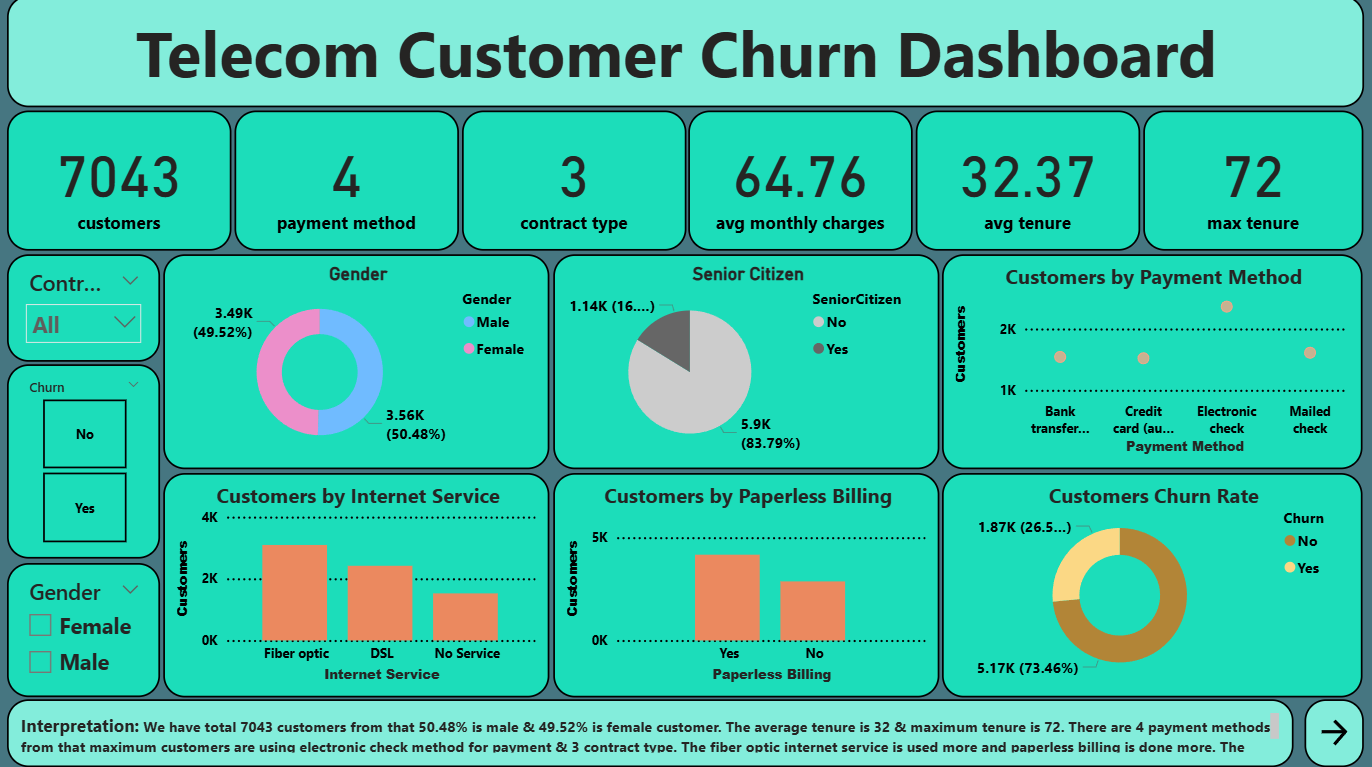

The dashboard page shown, as its layout file describes it:
{"tool":"powerbi","page":{"name":"Overview","canvas":[1280,720],"ordinal":0},"visuals":[{"type":"card","fields":{"Values":["WA_Fn-UseC_-Telco-Customer-Churn.total_customers"]},"box":[9.6,109.8,208.6,130.4],"z":0},{"type":"card","fields":{"Values":["WA_Fn-UseC_-Telco-Customer-Churn.payment_method"]},"box":[220.9,109.8,208.6,130.4],"z":1000},{"type":"card","fields":{"Values":["WA_Fn-UseC_-Telco-Customer-Churn.contract_type"]},"box":[432.2,109.8,208.6,130.4],"z":2000},{"type":"card","fields":{"Values":["WA_Fn-UseC_-Telco-Customer-Churn.avg_monthly_charges"]},"box":[643.6,109.8,208.6,130.4],"z":3000},{"type":"card","fields":{"Values":["WA_Fn-UseC_-Telco-Customer-Churn.avg_tenure"]},"box":[854.9,109.8,208.6,130.4],"z":4000},{"type":"textbox","box":[9.6,2.7,1262.4,104.3],"z":5000},{"type":"slicer","fields":{"Values":["WA_Fn-UseC_-Telco-Customer-Churn.Contract"]},"box":[9.6,242.9,142.7,100.2],"z":6000},{"type":"slicer","fields":{"Values":["WA_Fn-UseC_-Telco-Customer-Churn.gender"]},"box":[9.6,529.7,142.7,124.9],"z":7000},{"type":"slicer","fields":{"Values":["WA_Fn-UseC_-Telco-Customer-Churn.Churn"]},"box":[9.6,345.8,142.7,181.1],"z":8000},{"type":"textbox","box":[9.6,657.3,1196.6,63.1],"z":9000},{"type":"donutChart","title":"Gender","fields":{"Category":["WA_Fn-UseC_-Telco-Customer-Churn.gender"],"Y":["CountNonNull(WA_Fn-UseC_-Telco-Customer-Churn.gender)"]},"box":[155.1,242.9,359.5,200.3],"z":10000},{"type":"pieChart","title":"Senior Citizen","fields":{"Category":["WA_Fn-UseC_-Telco-Customer-Churn.SeniorCitizen"],"Y":["CountNonNull(WA_Fn-UseC_-Telco-Customer-Churn.SeniorCitizen)"]},"box":[517.3,242.9,359.5,200.3],"z":11000},{"type":"card","fields":{"Values":["WA_Fn-UseC_-Telco-Customer-Churn.max_tenure"]},"box":[1066.2,109.8,204.5,130.4],"z":12000},{"type":"actionButton","box":[1215.8,657.3,54.9,63.1],"z":13000},{"type":"donutChart","title":"Customers Churn Rate","fields":{"Category":["WA_Fn-UseC_-Telco-Customer-Churn.Churn"],"Y":["CountNonNull(WA_Fn-UseC_-Telco-Customer-Churn.Churn)"]},"box":[879.6,446,391.1,208.6],"z":14000},{"type":"scatterChart","title":"Customers by Payment Method","fields":{"X":["WA_Fn-UseC_-Telco-Customer-Churn.PaymentMethod"],"Y":["WA_Fn-UseC_-Telco-Customer-Churn.total_customers"]},"box":[879.6,242.9,391.1,200.3],"z":15000},{"type":"columnChart","fields":{"Category":["WA_Fn-UseC_-Telco-Customer-Churn.InternetService"],"Y":["WA_Fn-UseC_-Telco-Customer-Churn.total_customers"]},"box":[155.1,446,359.5,208.6],"z":16000},{"type":"columnChart","fields":{"Category":["WA_Fn-UseC_-Telco-Customer-Churn.PaperlessBilling"],"Y":["WA_Fn-UseC_-Telco-Customer-Churn.total_customers"]},"box":[517.3,446,359.5,208.6],"z":17000}]}

Visuals, with their boxes in screenshot pixels (x1, y1, x2, y2), scaled from the page's 1280x720 canvas onto the 1372x767 screenshot:
card - WA_Fn-UseC_-Telco-Customer-Churn.total_customers: detection(10, 117, 234, 256)
card - WA_Fn-UseC_-Telco-Customer-Churn.payment_method: detection(237, 117, 460, 256)
card - WA_Fn-UseC_-Telco-Customer-Churn.contract_type: detection(463, 117, 687, 256)
card - WA_Fn-UseC_-Telco-Customer-Churn.avg_monthly_charges: detection(690, 117, 913, 256)
card - WA_Fn-UseC_-Telco-Customer-Churn.avg_tenure: detection(916, 117, 1140, 256)
textbox: detection(10, 3, 1363, 114)
slicer - WA_Fn-UseC_-Telco-Customer-Churn.Contract: detection(10, 259, 163, 365)
slicer - WA_Fn-UseC_-Telco-Customer-Churn.gender: detection(10, 564, 163, 697)
slicer - WA_Fn-UseC_-Telco-Customer-Churn.Churn: detection(10, 368, 163, 561)
textbox: detection(10, 700, 1293, 766)
"Gender" donutChart: detection(166, 259, 552, 472)
"Senior Citizen" pieChart: detection(554, 259, 940, 472)
card - WA_Fn-UseC_-Telco-Customer-Churn.max_tenure: detection(1143, 117, 1362, 256)
actionButton: detection(1303, 700, 1362, 766)
"Customers Churn Rate" donutChart: detection(943, 475, 1362, 697)
"Customers by Payment Method" scatterChart: detection(943, 259, 1362, 472)
columnChart - WA_Fn-UseC_-Telco-Customer-Churn.InternetService x WA_Fn-UseC_-Telco-Customer-Churn.total_customers: detection(166, 475, 552, 697)
columnChart - WA_Fn-UseC_-Telco-Customer-Churn.PaperlessBilling x WA_Fn-UseC_-Telco-Customer-Churn.total_customers: detection(554, 475, 940, 697)
